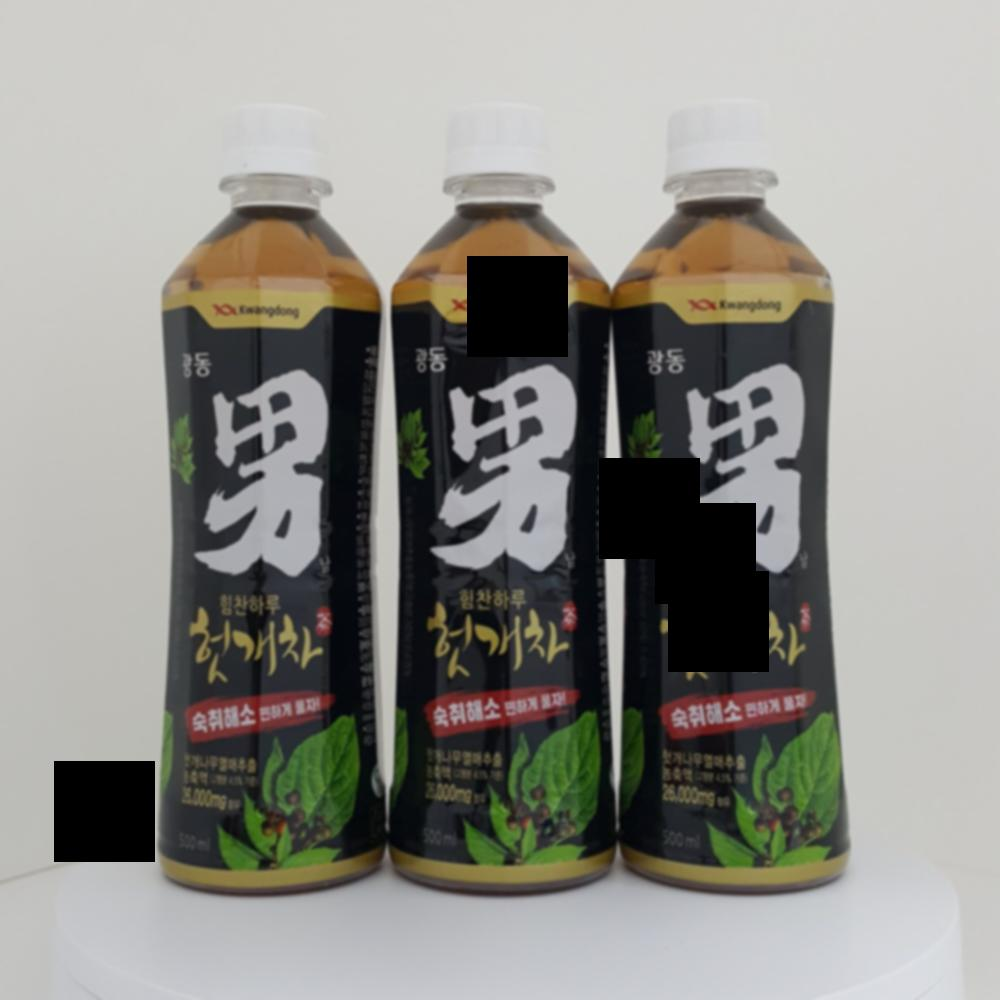heotgaecha: (612, 88, 859, 895), (158, 75, 389, 899), (389, 94, 622, 891)
